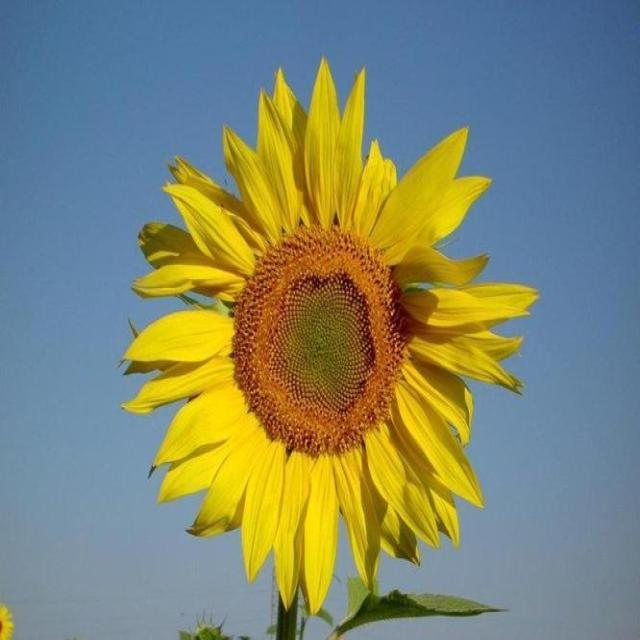sunflower: (113, 47, 544, 632), (1, 600, 18, 640)
